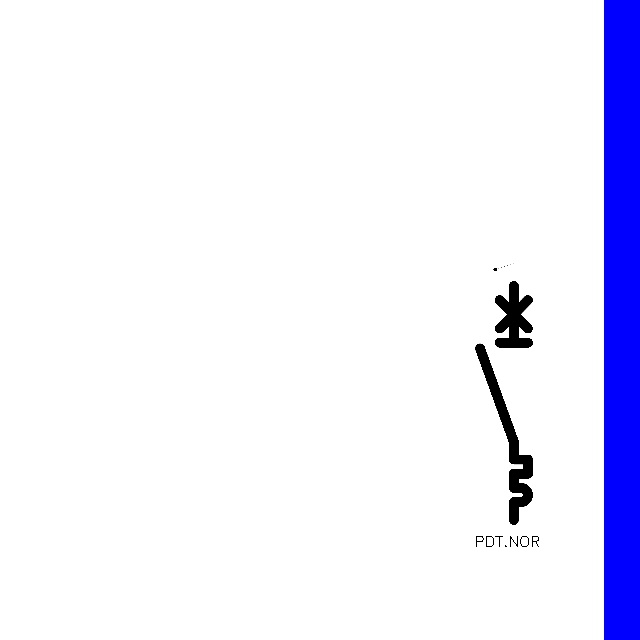interruptor_termomagnetico: (474, 279, 534, 525)
